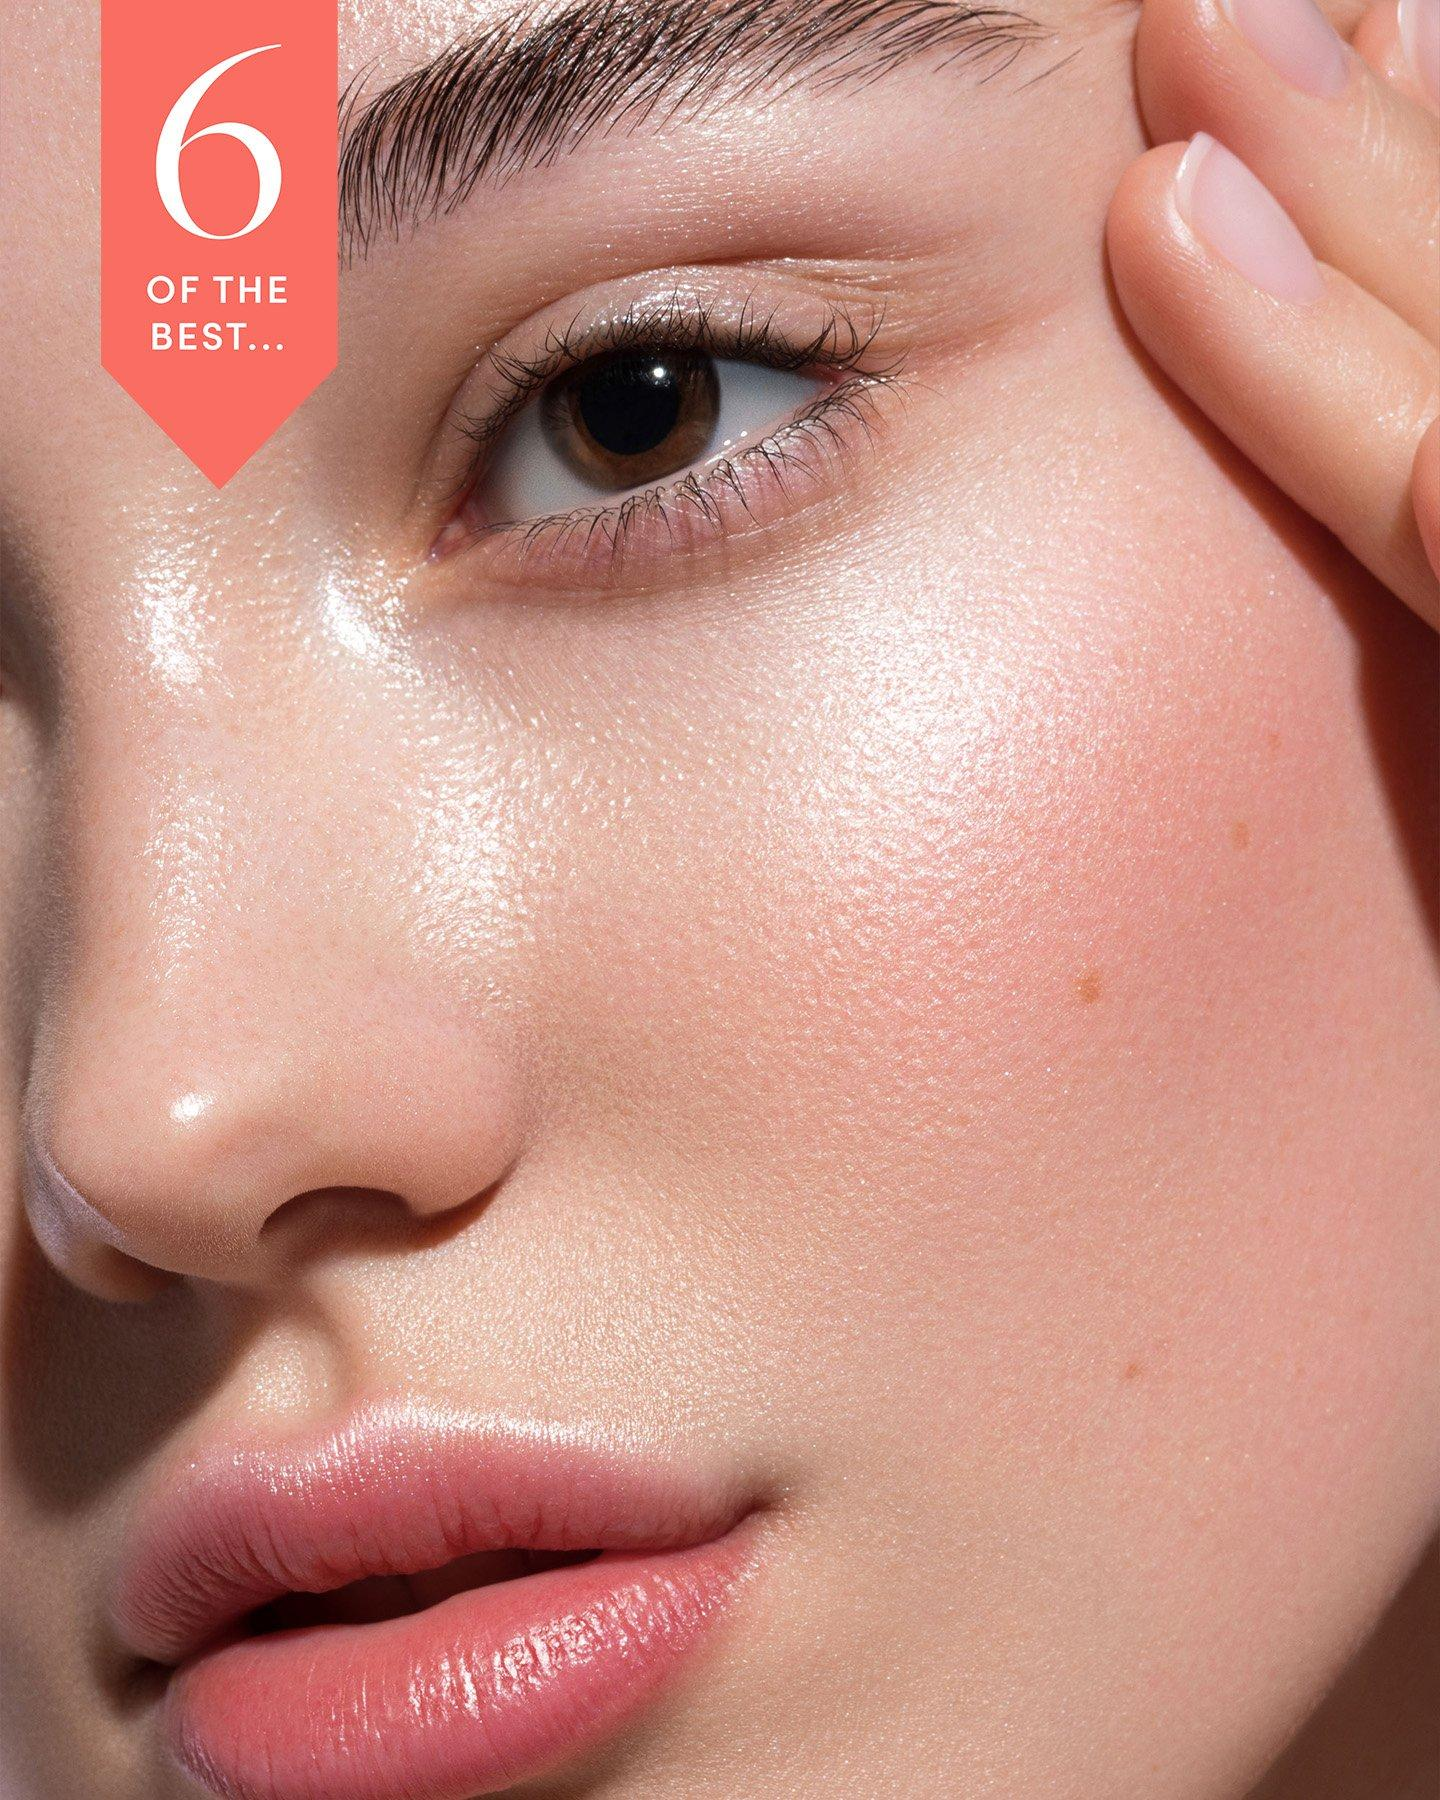Oily-Skin: (65, 494, 1344, 1195)
